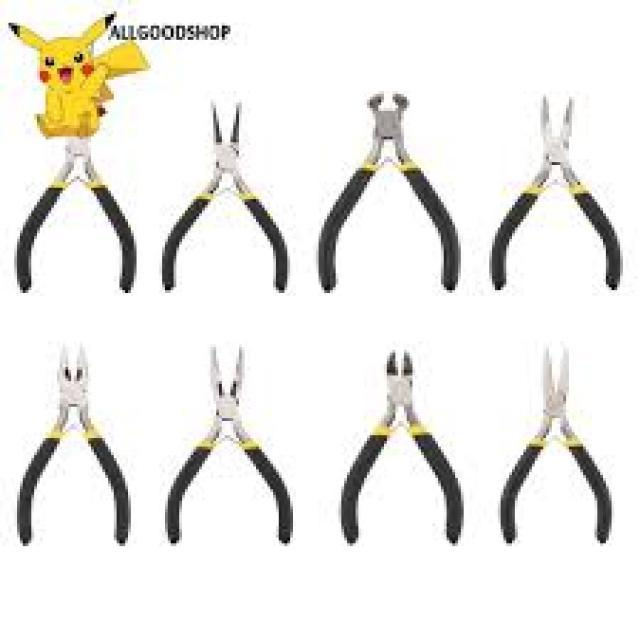pliers: (4, 338, 149, 553), (314, 88, 464, 293), (482, 92, 628, 300), (160, 336, 298, 554), (158, 94, 296, 308), (334, 346, 469, 550), (494, 344, 620, 552)
